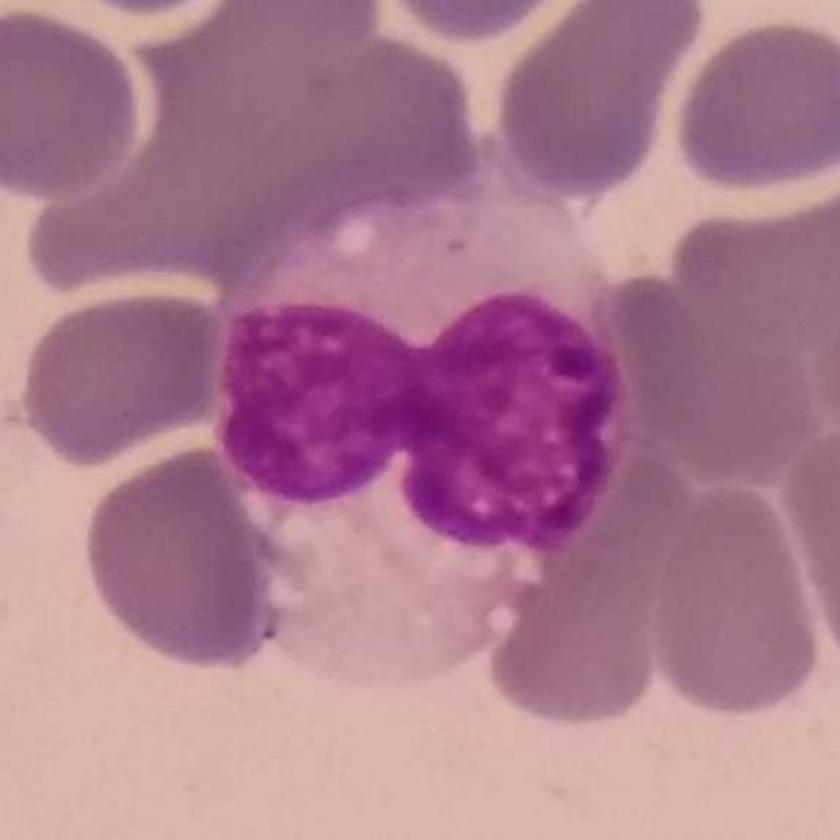monocyte: (215, 131, 639, 691)
